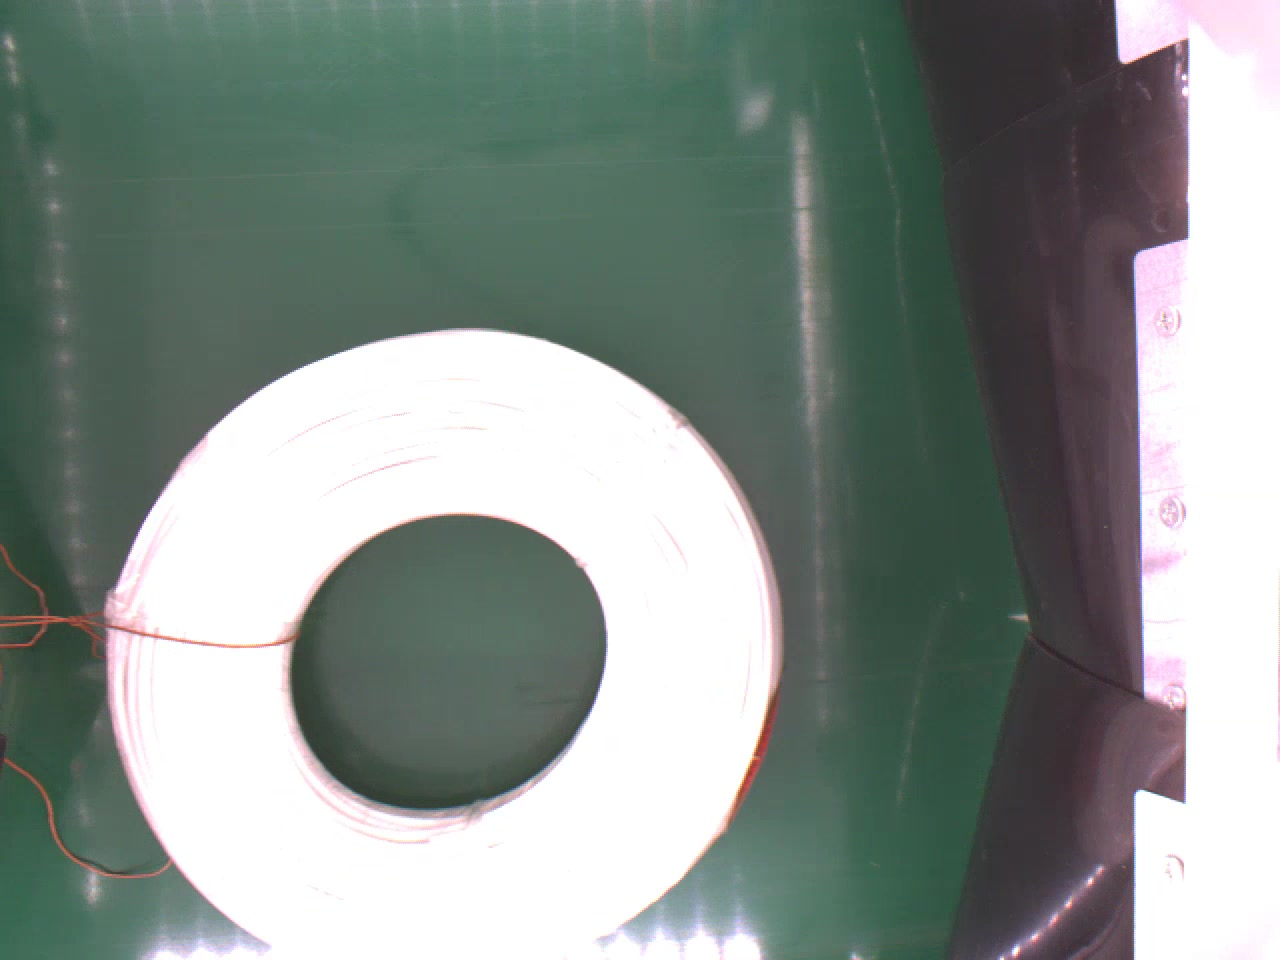white: (103, 324, 785, 960)
